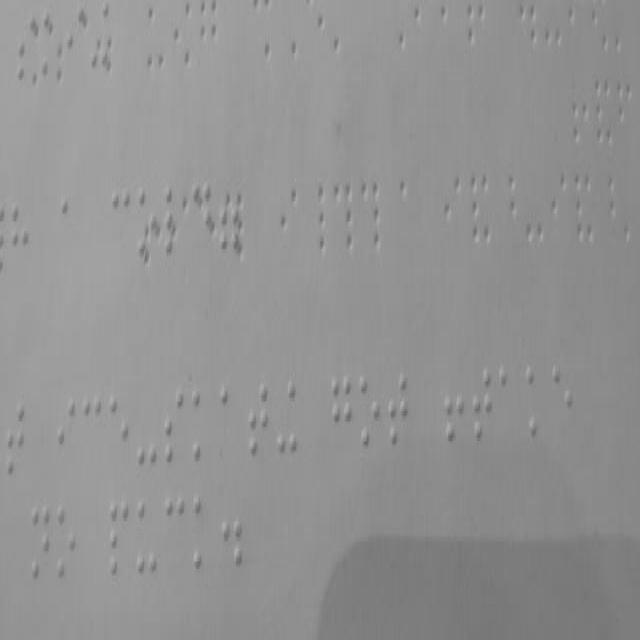braiile: (162, 180, 188, 264), (328, 372, 354, 454), (386, 368, 410, 454), (218, 382, 242, 467), (523, 363, 549, 441), (29, 502, 52, 587), (247, 378, 270, 462), (58, 189, 82, 269), (357, 371, 381, 451), (470, 364, 494, 444), (552, 362, 574, 447), (8, 200, 32, 276), (81, 388, 103, 470), (108, 390, 130, 472), (56, 501, 78, 583), (108, 494, 130, 576), (162, 386, 185, 464), (498, 364, 520, 444), (3, 397, 24, 479), (192, 488, 212, 574), (191, 386, 213, 464), (136, 496, 158, 574), (16, 11, 38, 87), (164, 496, 186, 572), (190, 178, 212, 253), (40, 8, 62, 82), (66, 5, 88, 79), (57, 399, 77, 477), (138, 186, 158, 262), (111, 182, 129, 262)
